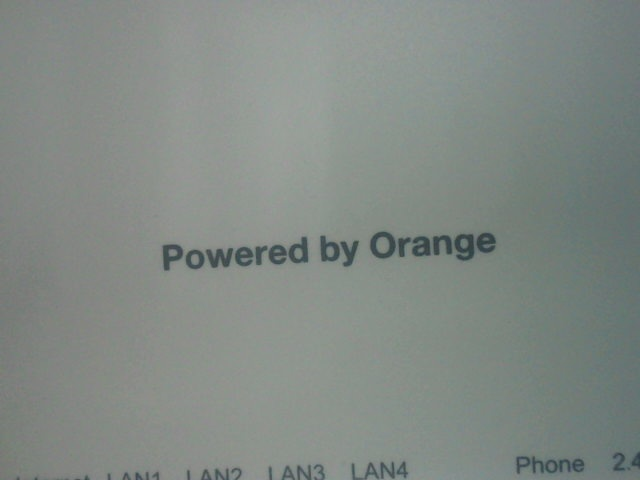AS_PowerByOrange: (146, 227, 501, 276)
